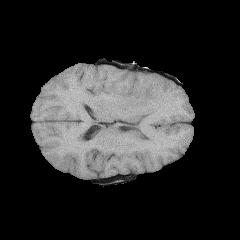glioma: (114, 71, 170, 130)
